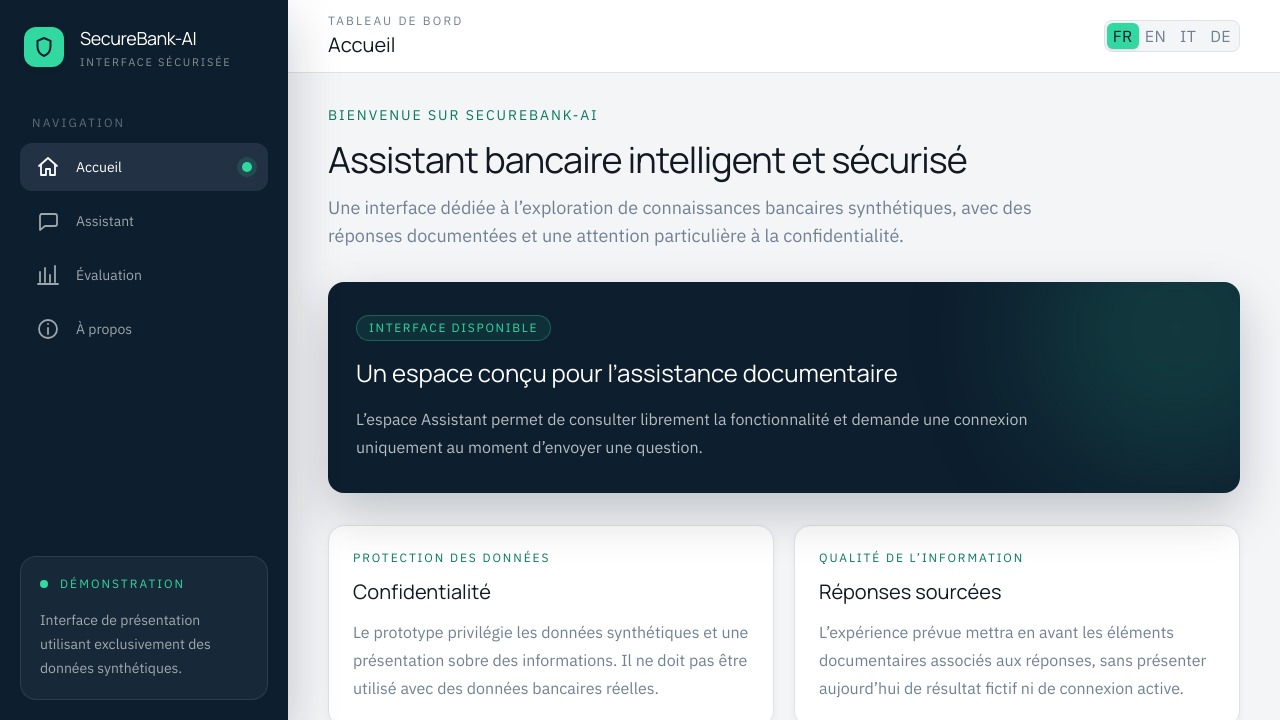
internationalization › selects Italian
This screenshot has width=1280, height=720.
Click the button with aria-label "Italiano" at (1188, 36), box [1172,23,1204,49]
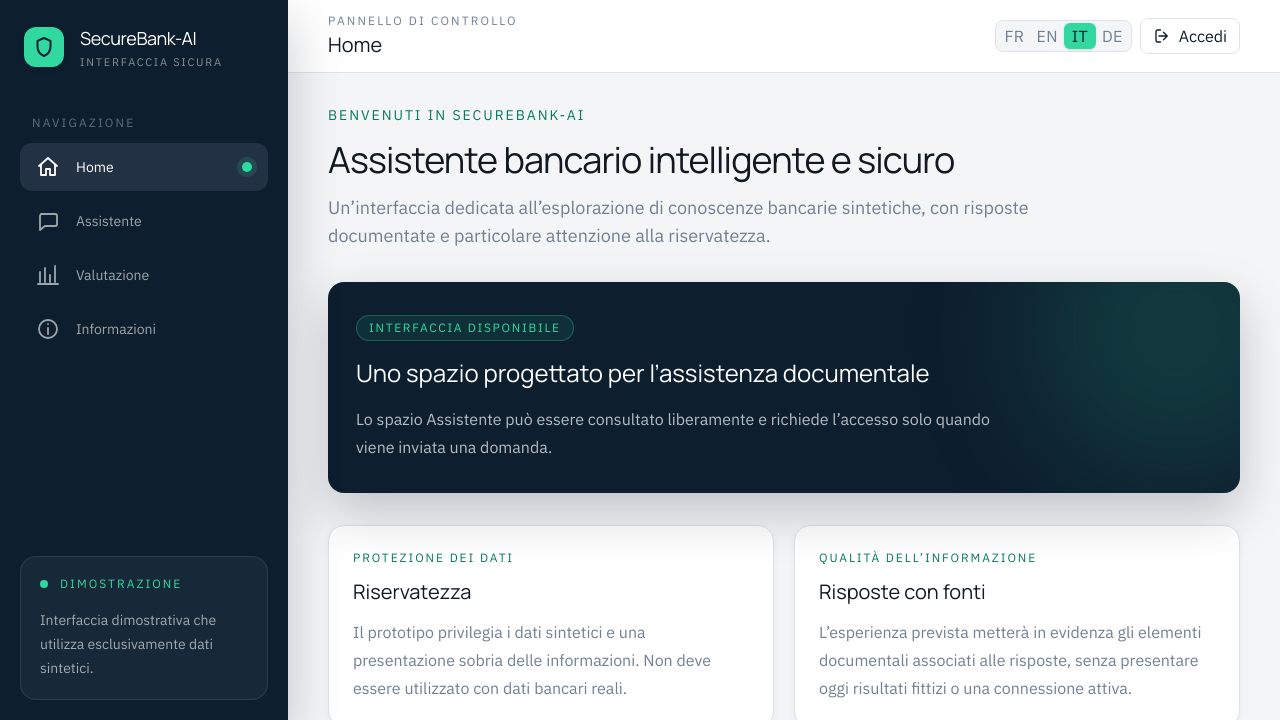
Expected: the heading "Assistente bancario intelligente e sicuro" is shown, [328,135,954,184]
